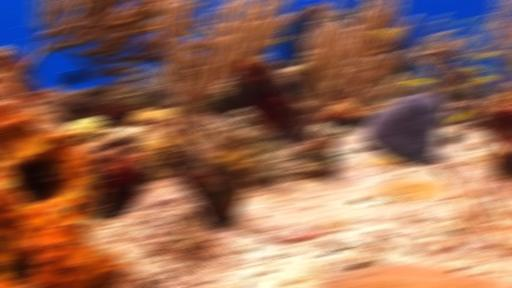Fish: (461, 63, 488, 75), (62, 70, 85, 84), (447, 111, 472, 123), (478, 49, 497, 61), (368, 30, 399, 37), (453, 16, 470, 28), (471, 75, 496, 82), (190, 27, 204, 39), (190, 29, 207, 38), (400, 80, 433, 84)
